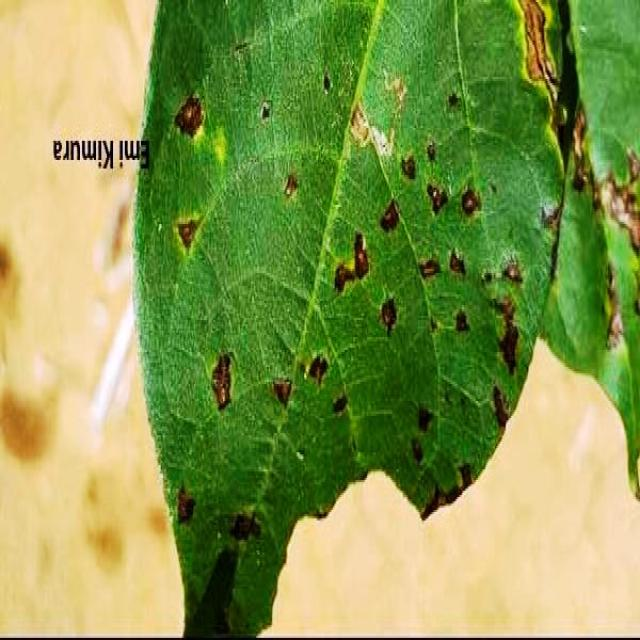Bacterial Blight: (298, 133, 517, 489)
